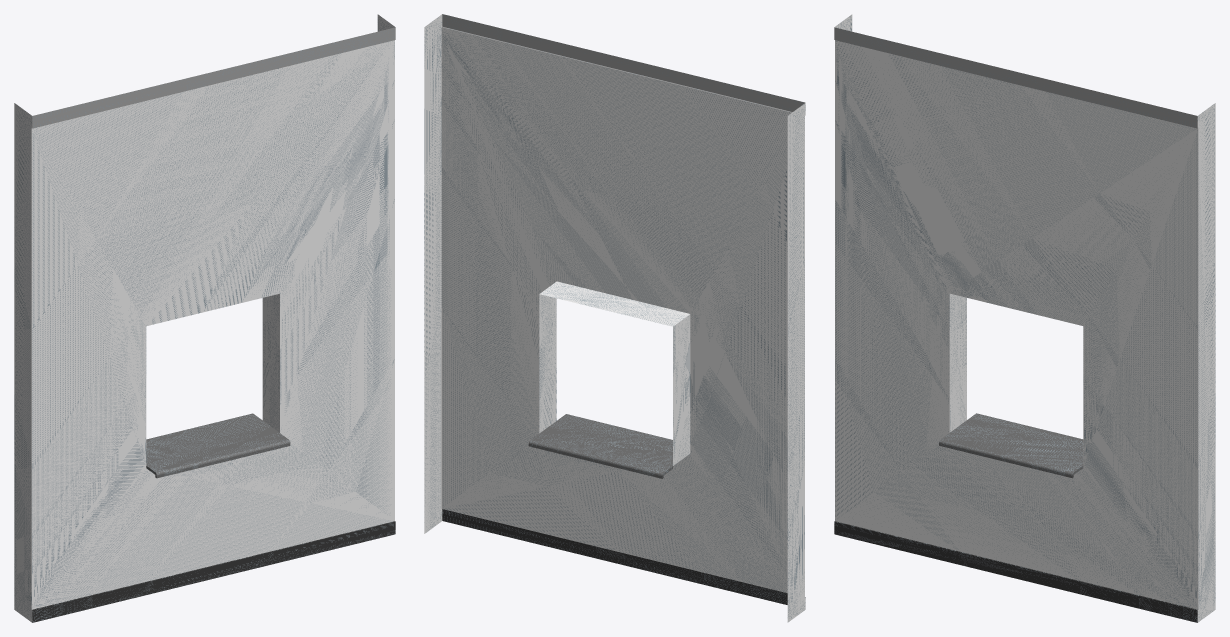
File: BlockWall_Sluise_ds_plinth[300x400x025]_112x110x[100].dae
The picture shows the model from 3 angles, left to right: view 1: azimuth 30°, elevation 25°; view 2: azimuth 150°, elevation 25°; view 3: azimuth 330°, elevation 25°; orthographic projection.
Visible parts, largest first — view 1: group_0 (×5); view 2: group_0 (×5); view 3: group_0 (×5).
Boxes of the visible parts, x1,y1,x2,y2 form: group_0 (×5): (14,14,395,622); group_0 (×5): (424,14,805,622); group_0 (×5): (834,14,1215,622).
Size of the model in its own units: 118 by 21.65 by 157.
